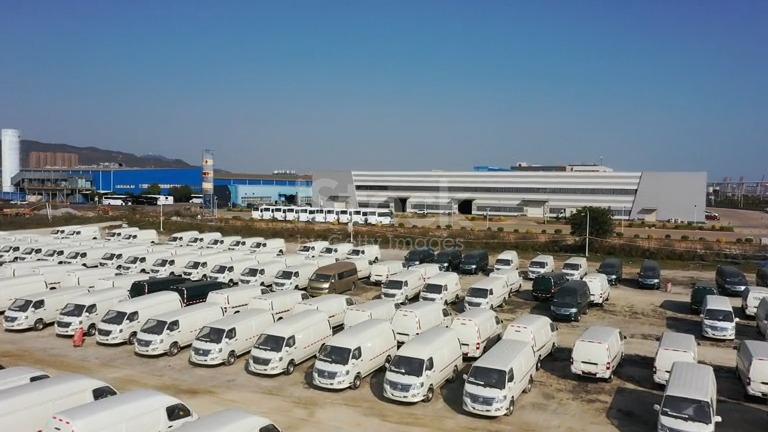van: (383, 327, 462, 402), (312, 319, 396, 388), (462, 340, 537, 416), (247, 310, 329, 374), (654, 361, 721, 431), (190, 309, 274, 364), (97, 292, 183, 344), (137, 304, 223, 355), (3, 286, 89, 330), (55, 288, 128, 335), (570, 325, 625, 381), (503, 314, 556, 368), (450, 309, 502, 357), (653, 331, 697, 385), (392, 302, 449, 343), (294, 294, 355, 327), (182, 251, 244, 280), (248, 290, 308, 319), (207, 286, 268, 314), (307, 261, 357, 295), (701, 295, 738, 338), (345, 299, 399, 328), (551, 280, 588, 320), (170, 280, 228, 305), (210, 255, 256, 286), (465, 277, 509, 309), (382, 270, 424, 303), (420, 272, 459, 305), (129, 276, 189, 297), (273, 263, 317, 290), (100, 244, 151, 267), (240, 260, 285, 286), (150, 252, 199, 275), (118, 251, 166, 272), (715, 265, 748, 295), (582, 272, 610, 305), (533, 272, 566, 300), (63, 245, 106, 266), (690, 281, 717, 313), (370, 260, 404, 283), (43, 245, 84, 262), (526, 255, 554, 279), (404, 246, 436, 267), (597, 258, 621, 285), (461, 250, 488, 273), (637, 259, 658, 288), (347, 245, 380, 263), (319, 243, 353, 260), (561, 257, 587, 279), (435, 249, 461, 270), (188, 232, 222, 248), (297, 241, 328, 258), (228, 237, 263, 252), (409, 263, 441, 279), (121, 229, 157, 243), (494, 250, 518, 270), (168, 230, 198, 246), (256, 238, 285, 254), (205, 236, 240, 249), (65, 226, 100, 238), (19, 246, 43, 260), (0, 246, 20, 261)
